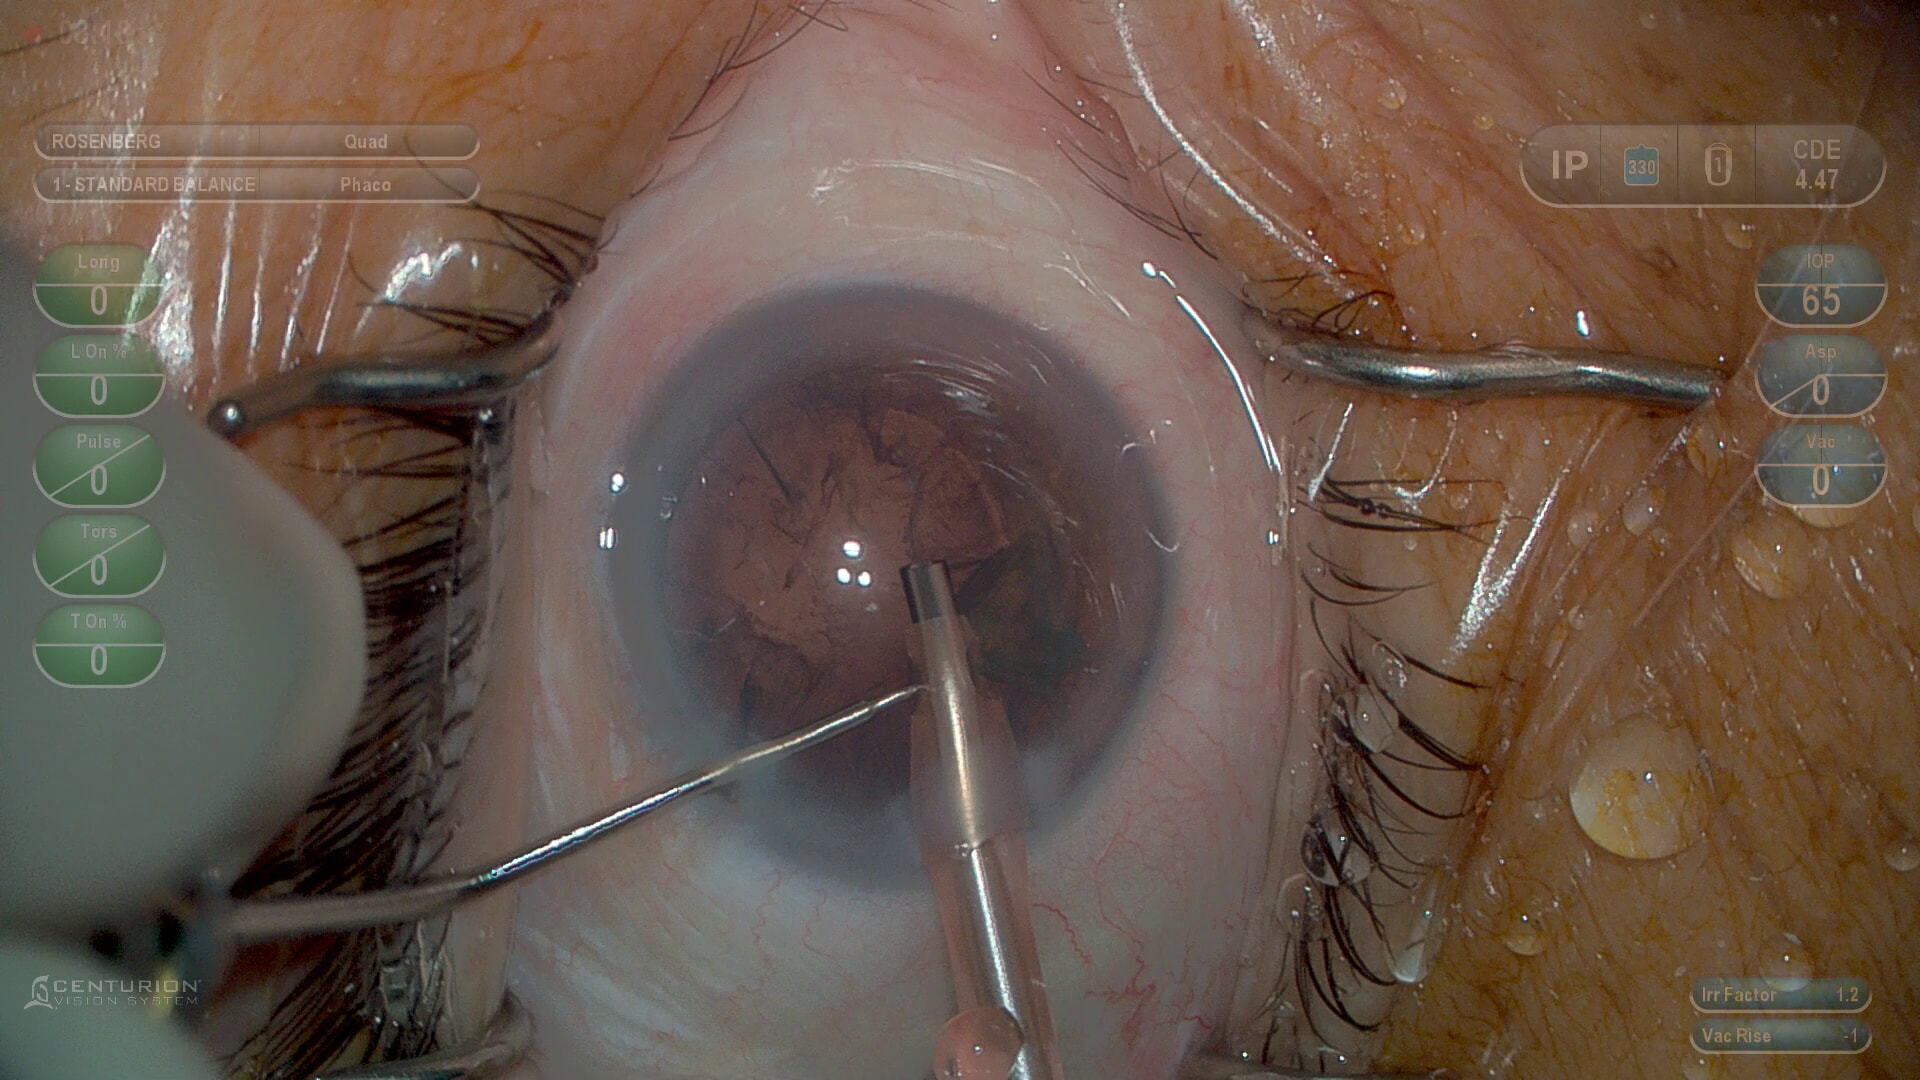iris: (603, 295, 1162, 872)
pupil: (659, 367, 1091, 772)
